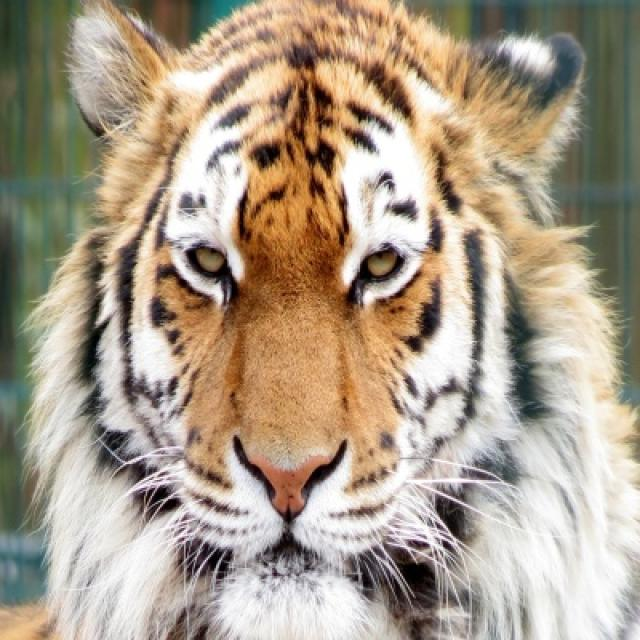Tiger: (19, 0, 638, 638)
